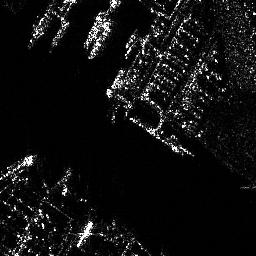ship: (1, 151, 38, 184), (88, 20, 110, 60), (83, 8, 105, 48), (107, 67, 123, 98)
